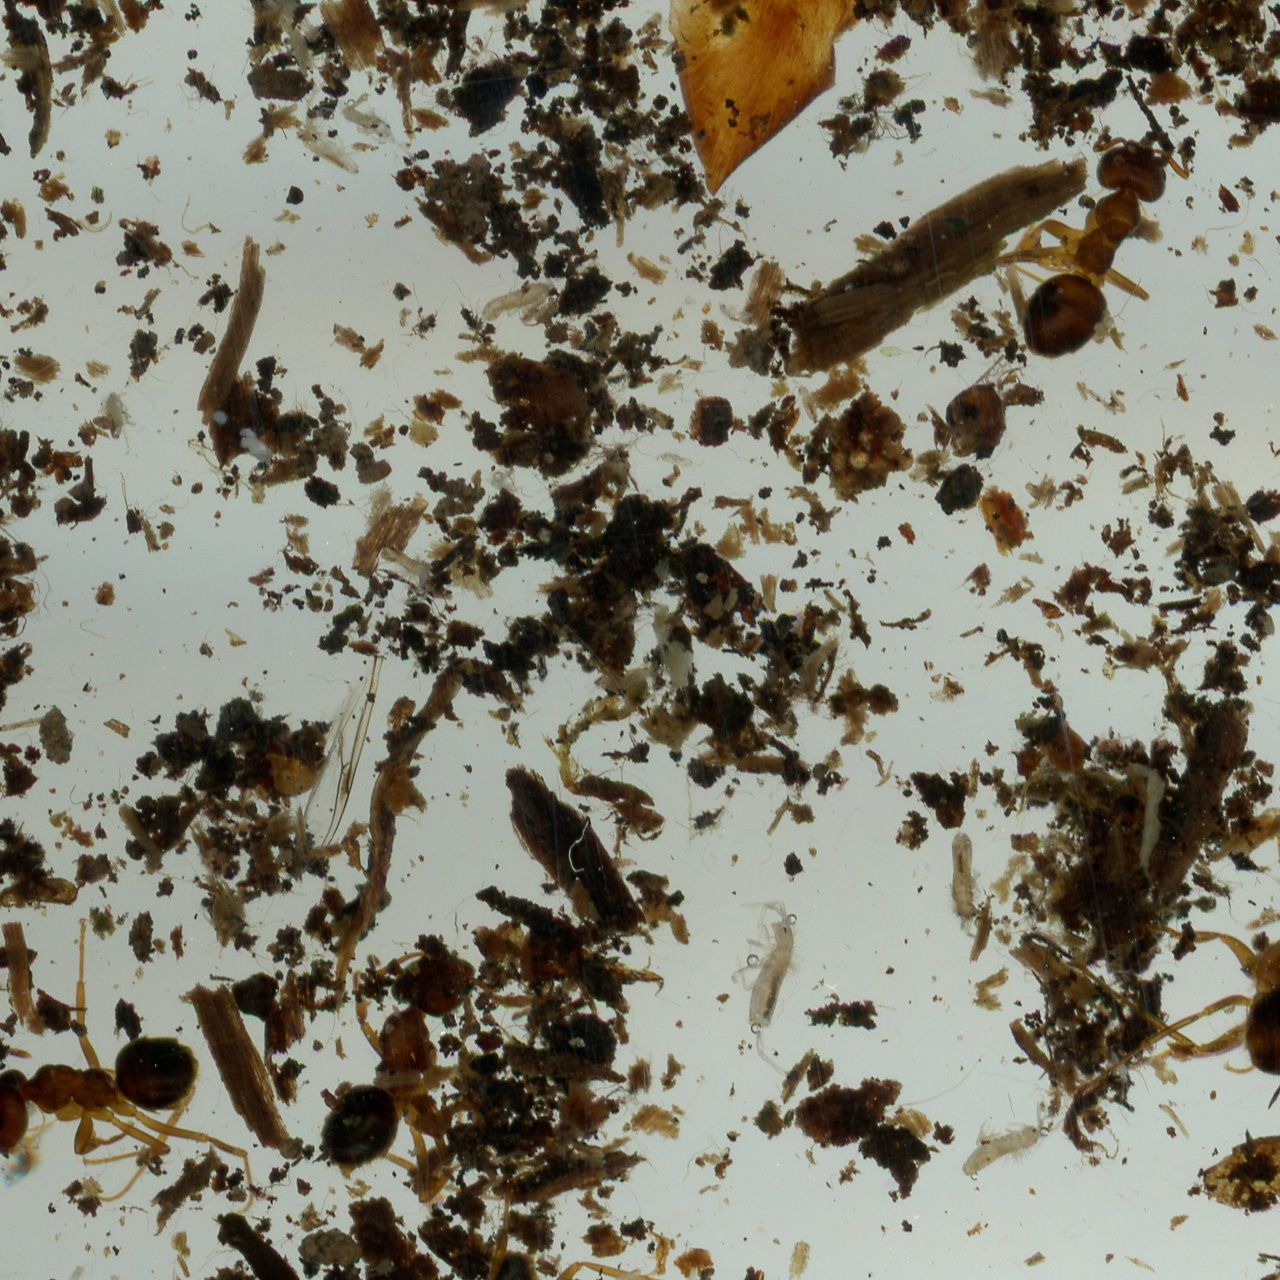arthropod: (271, 906, 567, 1230), (0, 893, 256, 1239), (345, 1133, 764, 1280), (989, 121, 1190, 384), (708, 890, 821, 1080), (1178, 917, 1280, 1082), (944, 1088, 1072, 1182), (279, 77, 391, 184), (474, 273, 560, 334), (336, 95, 414, 161), (786, 630, 842, 716), (379, 544, 437, 608), (949, 829, 980, 937), (482, 466, 534, 503), (790, 377, 826, 427), (651, 446, 709, 475), (715, 299, 757, 325), (1109, 1050, 1131, 1086)
